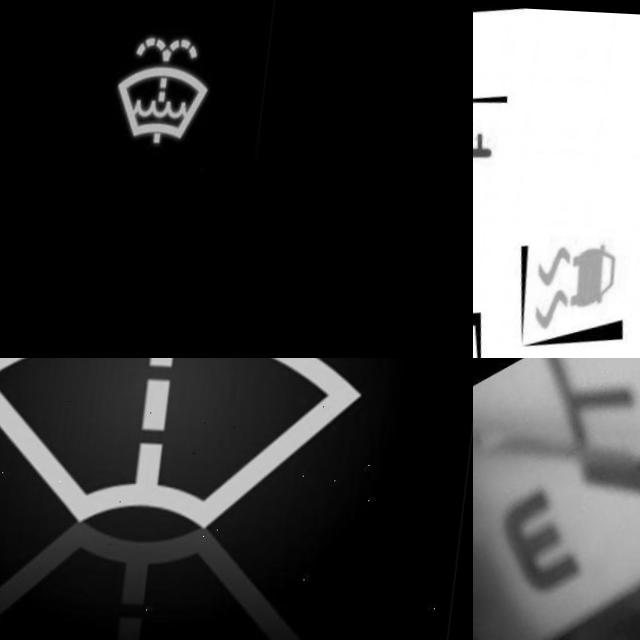Washer Fluid: (0, 358, 385, 535)
